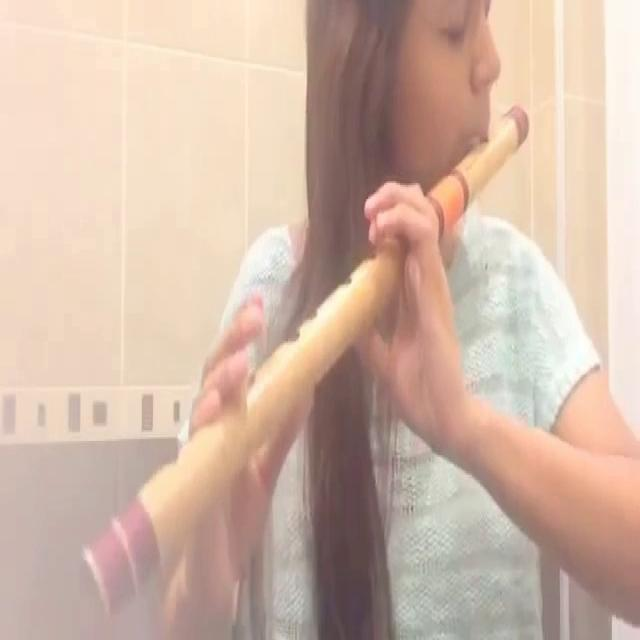Flute: (70, 91, 542, 636)
